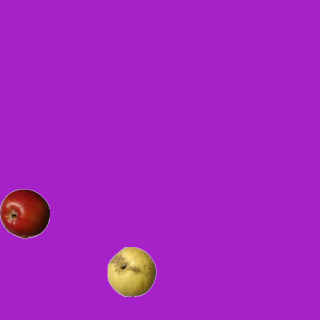Apple Braeburn: (0, 188, 49, 238)
Apple Golden 1: (106, 246, 156, 296)
